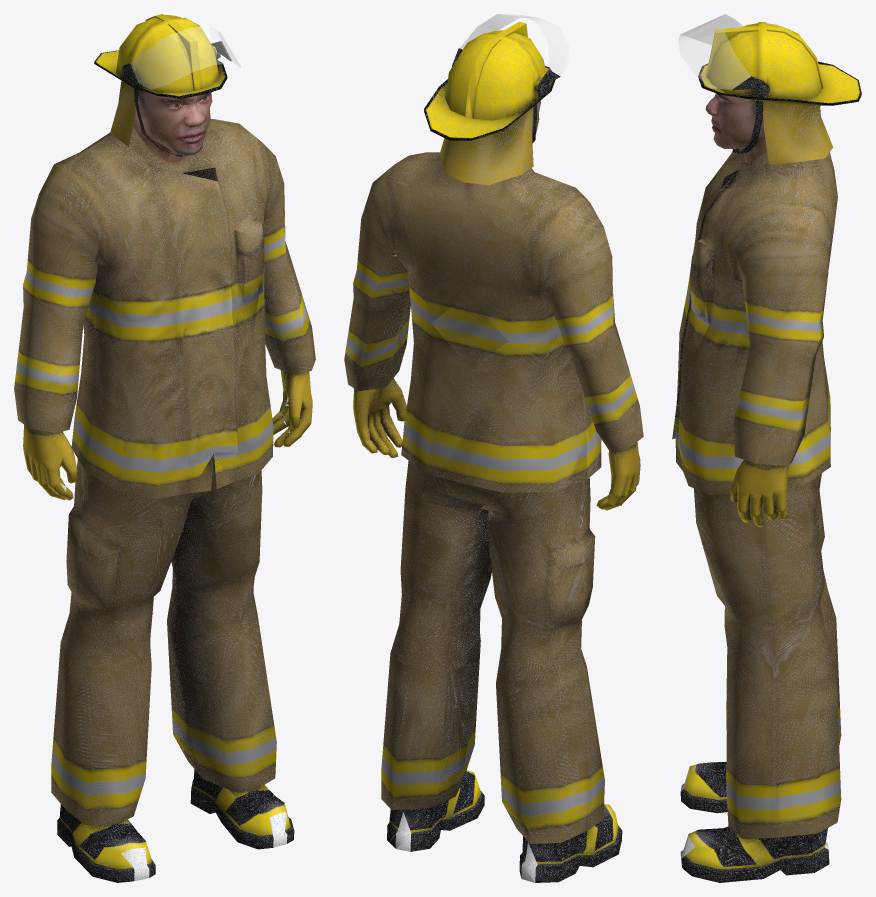
The picture shows the model from 3 angles, left to right: view 1: azimuth 30°, elevation 25°; view 2: azimuth 150°, elevation 25°; view 3: azimuth 270°, elevation 25°; orthographic projection.
Parts seen in each view (by area): view 1: rest_1 (×8); view 2: rest_1 (×6); view 3: rest_1 (×8).
Part boxes in pixels (bbox=[...]): rest_1 (×8): bbox=[14, 14, 315, 882]; rest_1 (×6): bbox=[344, 14, 643, 882]; rest_1 (×8): bbox=[672, 14, 861, 882].
Size of the model in its own units: 27.83 by 16.2 by 76.8.
Materials: 7 (4 with a texture image).
